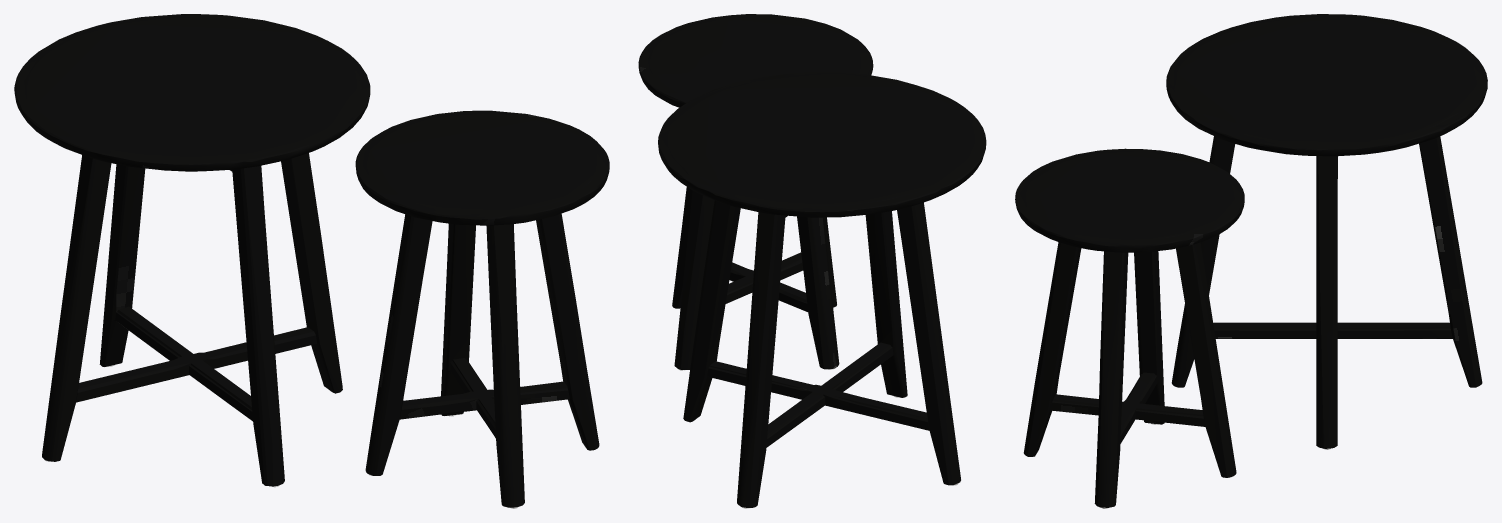
3 renders of one model, left to right at view 1: azimuth 30°, elevation 25°; view 2: azimuth 150°, elevation 25°; view 3: azimuth 270°, elevation 25°, orthographic. The views are drawn at different scales.
Parts seen in each view (by area): view 1: ProcessedMeshNode; view 2: ProcessedMeshNode; view 3: ProcessedMeshNode.
Part boxes in pixels (<box>): ProcessedMeshNode: <box>14,14,609,508</box>; ProcessedMeshNode: <box>638,14,986,508</box>; ProcessedMeshNode: <box>1015,14,1487,508</box>.
Bounding box in the file's own units: 0.7067 × 0.513 × 0.7195.
Materials: 2 (2 with a texture image).
